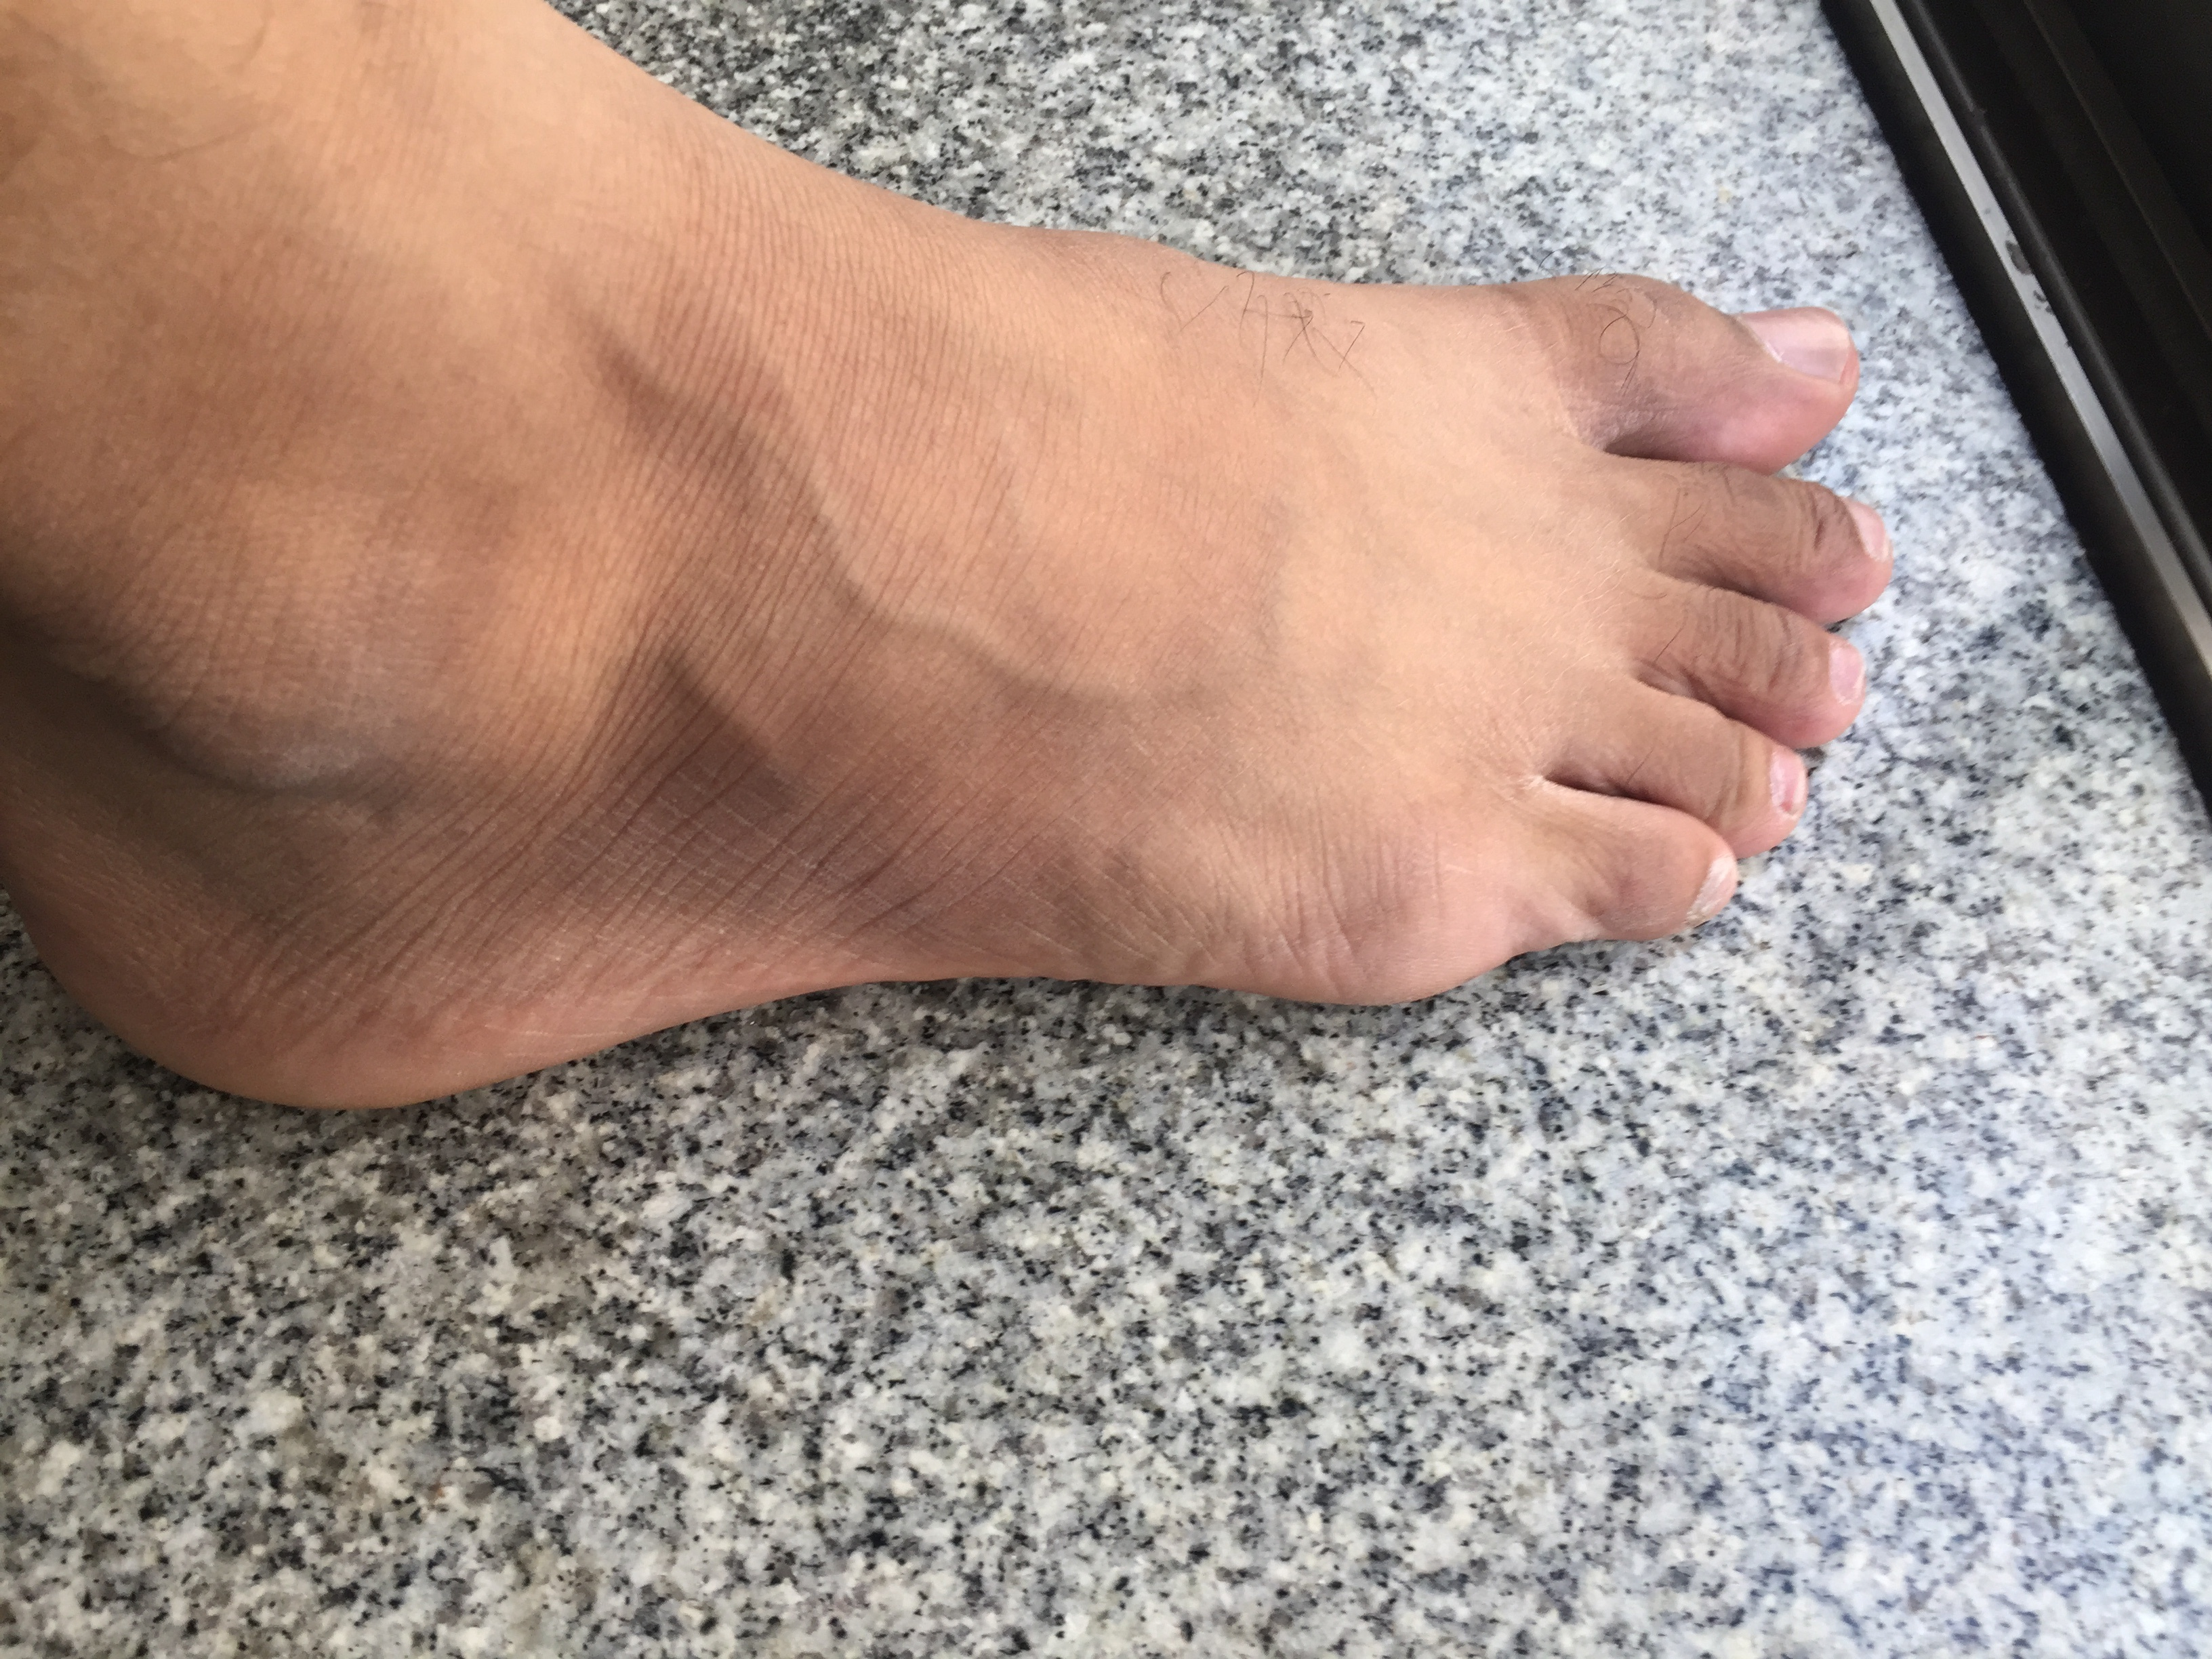feet: (10, 16, 1912, 1127)
